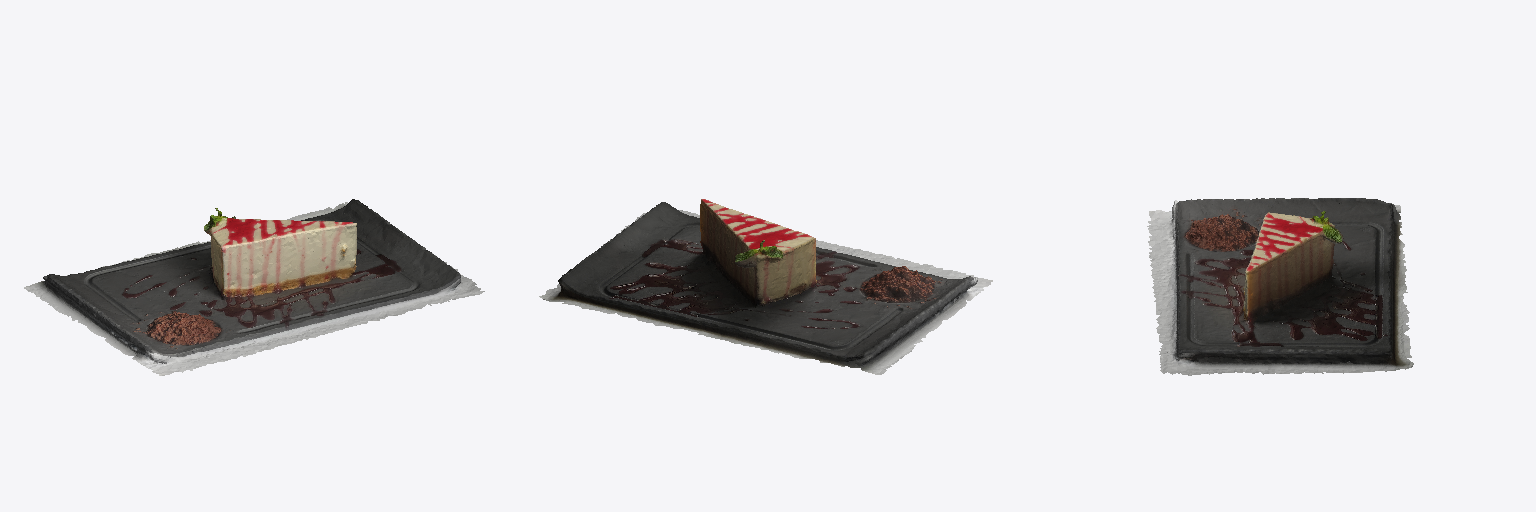
3 views of the same model, side by side, from view 1: azimuth 30°, elevation 25°; view 2: azimuth 150°, elevation 25°; view 3: azimuth 270°, elevation 25° (orthographic).
Visible parts, largest first — view 1: prajitura; view 2: prajitura; view 3: prajitura.
Boxes of the visible parts, x1,y1,x2,y2 form: prajitura: [24, 199, 484, 375]; prajitura: [539, 199, 992, 374]; prajitura: [1147, 198, 1413, 375].
Size of the model in its own units: 0.2609 by 0.0522 by 0.1746.
Materials: 1 (1 with a texture image).